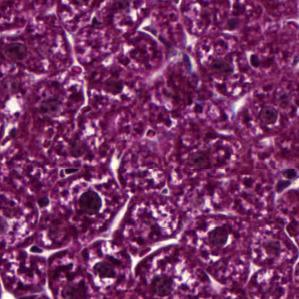inflammation: (71, 181, 110, 220), (198, 217, 237, 254), (86, 256, 121, 288)
